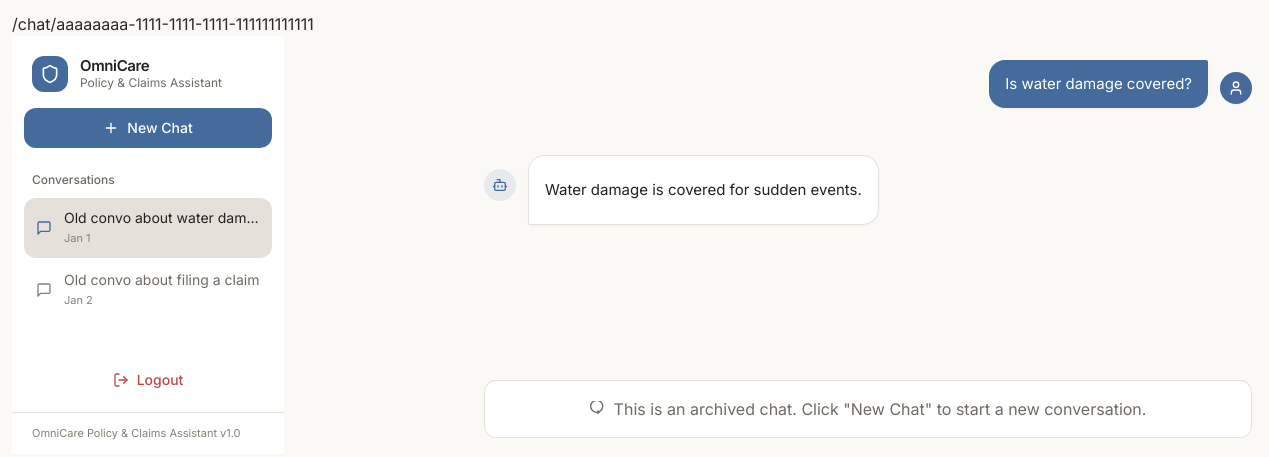
Test: ChatPage conversation sidebar navigation › keeps the old conversations listed and clears history on New Chat
The width and height of the screenshot is (1269, 457).
Expected: the text "Is water damage covered?" is shown, [1005,72,1192,96]
Click the button with test id "new-chat-button" at coordinates (148, 128), box [24,108,272,148]
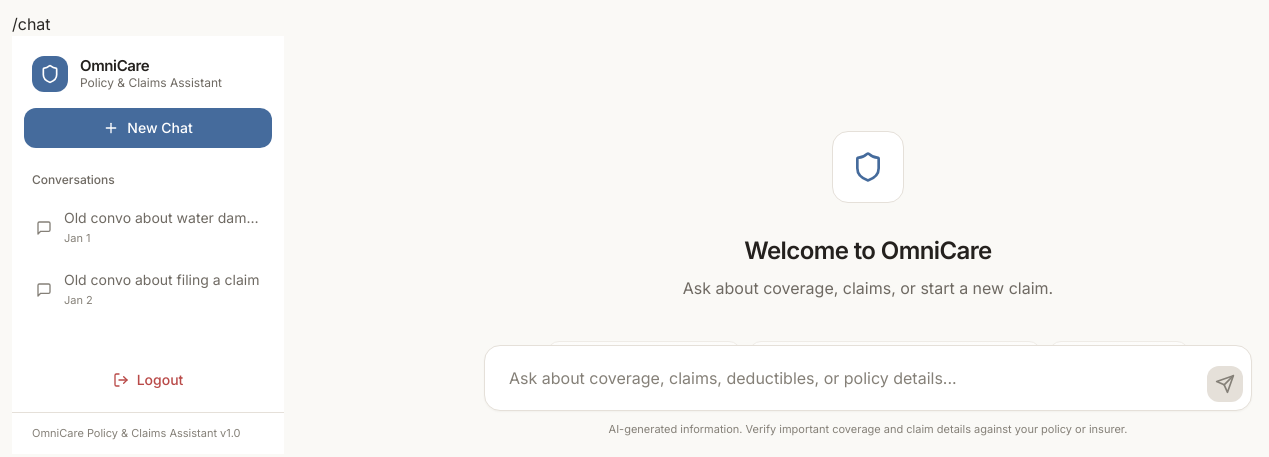
Expected: the text with test id "current-path" reads "/chat", [12,14,51,34]
Expected: the text "Is water damage covered?" is gone
